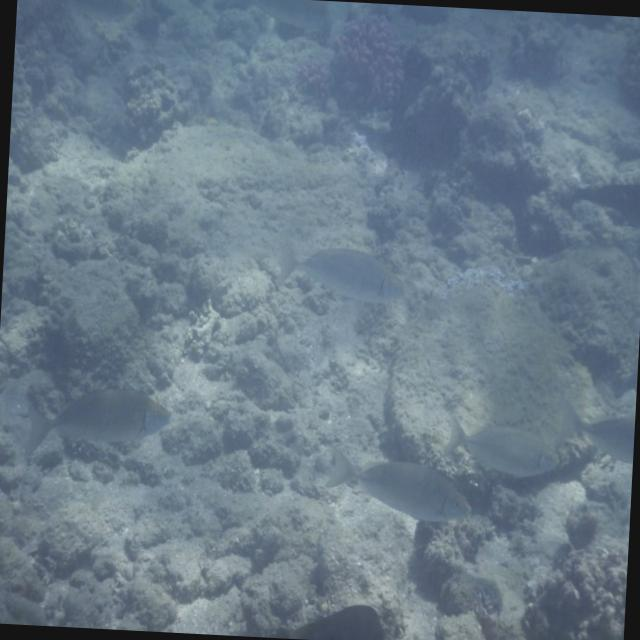Sokar Baligi: (248, 227, 412, 311)
